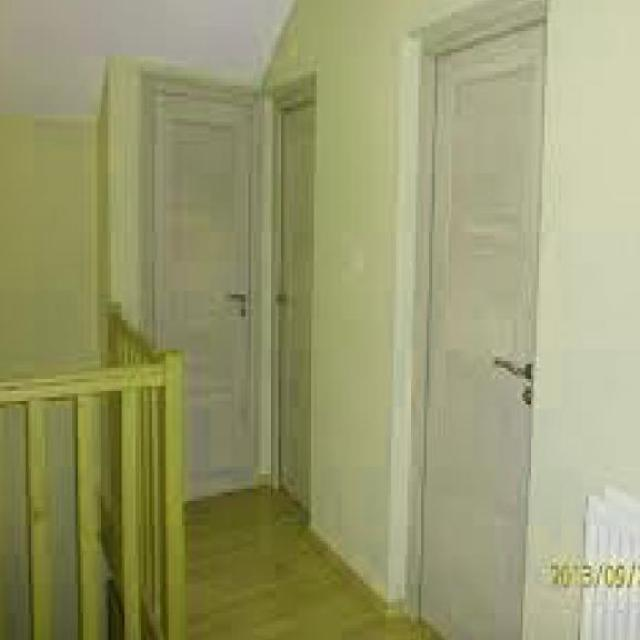door: (417, 13, 544, 639), (147, 82, 257, 500), (268, 84, 323, 519)
